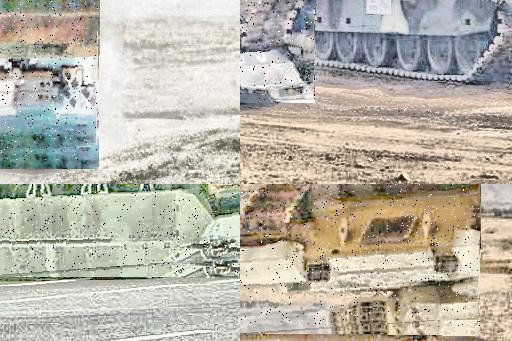tanks: (241, 185, 481, 328), (1, 185, 241, 273), (307, 1, 512, 84), (1, 5, 99, 156), (241, 1, 316, 101)
